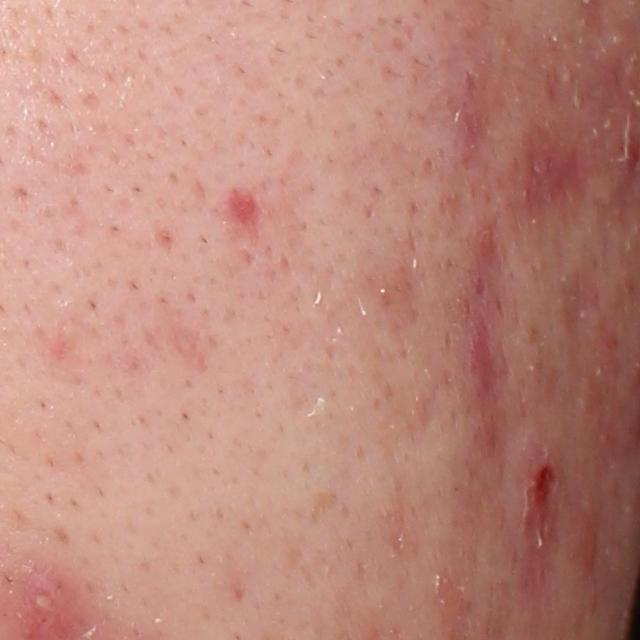papule: (516, 434, 560, 544), (469, 215, 508, 268)
pustule: (5, 570, 85, 634)
